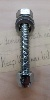FinishedAssembly: (12, 7, 37, 88)
